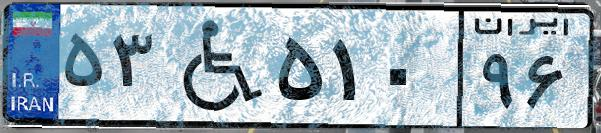0: (385, 28, 445, 110)
1: (330, 28, 385, 110)
3: (110, 28, 158, 98)
5: (270, 28, 330, 110), (57, 26, 110, 100)
6: (525, 38, 570, 115)
9: (475, 38, 525, 113)
ژ (معلولین و جانبازان): (158, 12, 270, 120)
